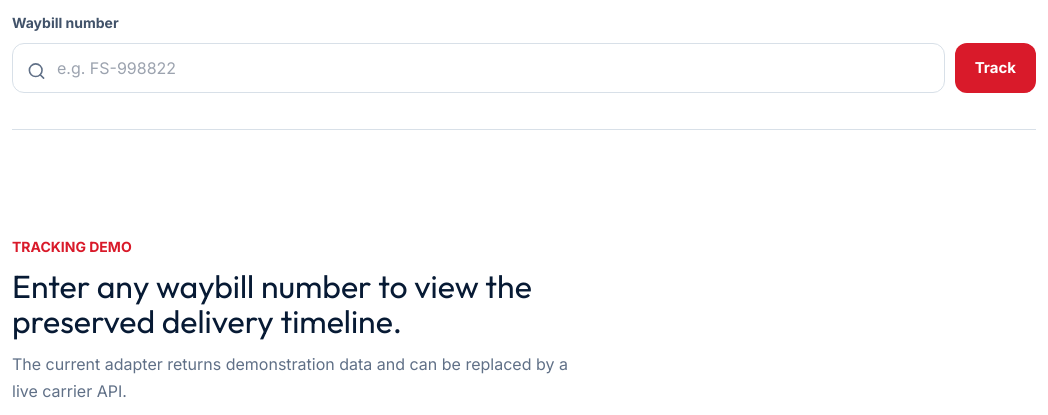
Test case: TrackingPanel › renders adapter results
Type "fs-42" into the field labelled "Waybill number" at (478, 68), box [12,43,945,93]
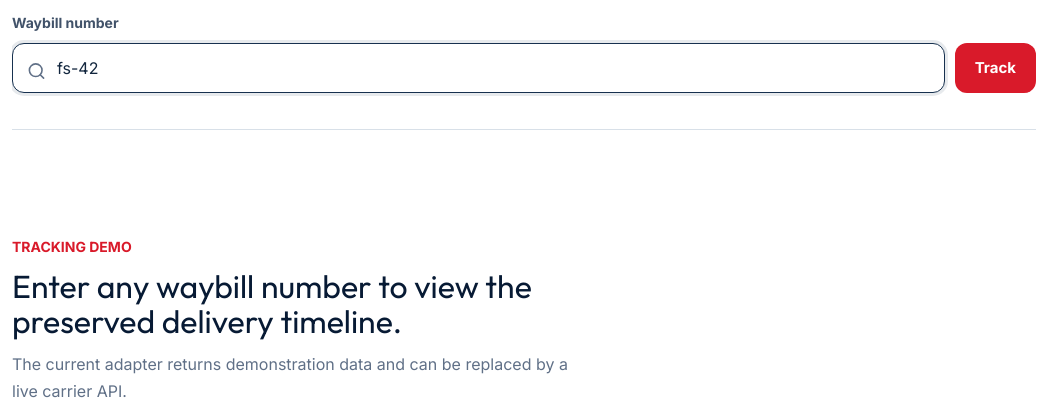
Click the button "Track" at (995, 68), box [955,43,1036,93]
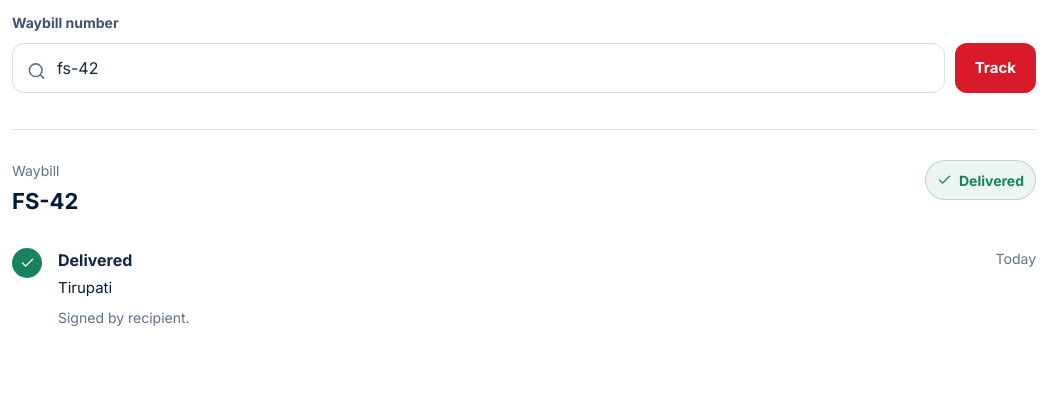
Expected: the text "FS-42" is shown, [12,185,78,218]
Expected: the text "Signed by recipient." is shown, [58,308,190,326]
